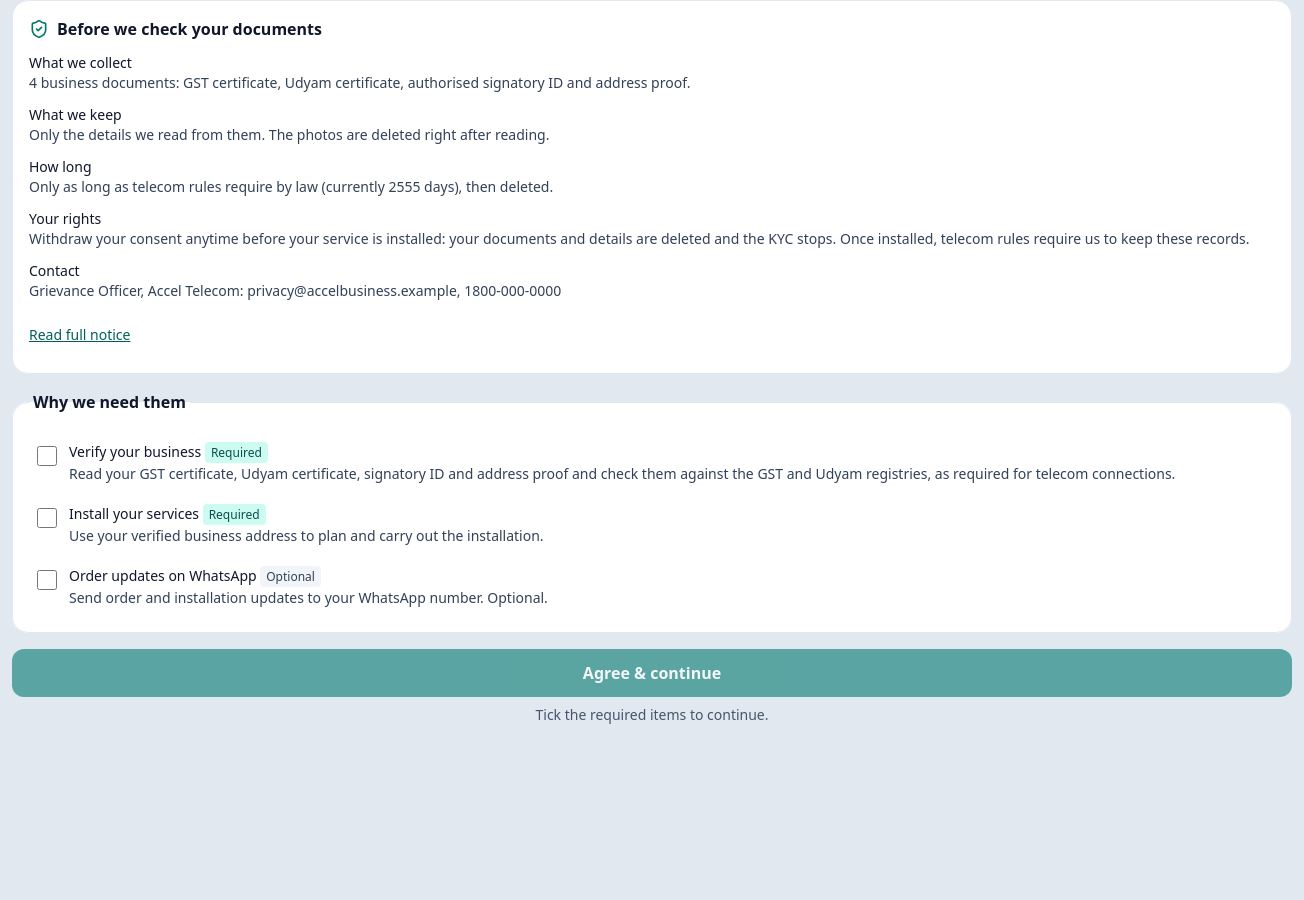
Test: ConsentStep › stays disabled until every required purpose is ticked
Expected: the button "Agree & continue" is disabled, [12,649,1292,697]
Click the checkbox labelled "Verify your business".
click(47, 456)  # box [37,446,57,466]
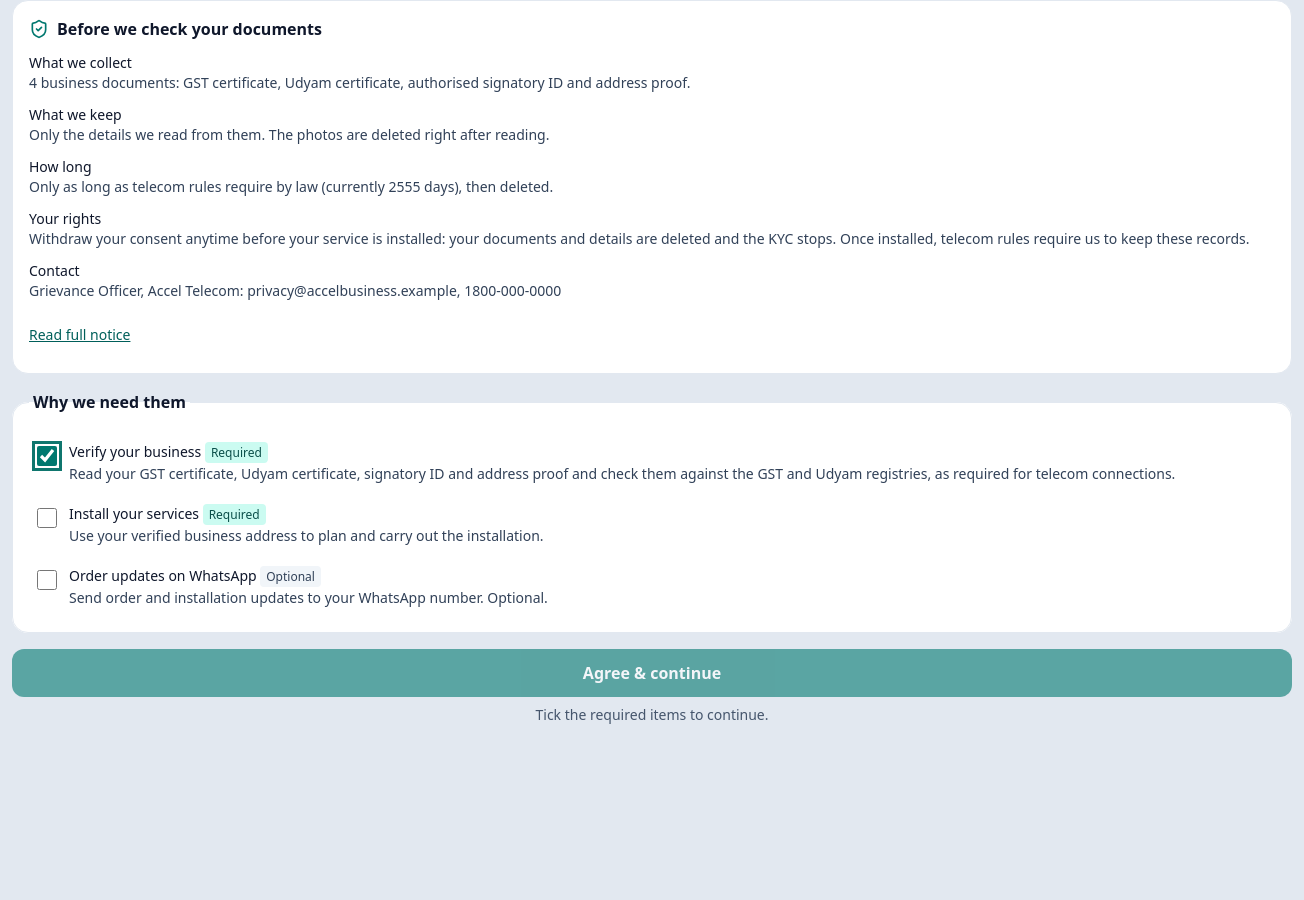
Expected: the button "Agree & continue" is disabled, [12,649,1292,697]
Click the checkbox labelled "Order updates on WhatsApp".
click(47, 580)  # box [37,570,57,590]
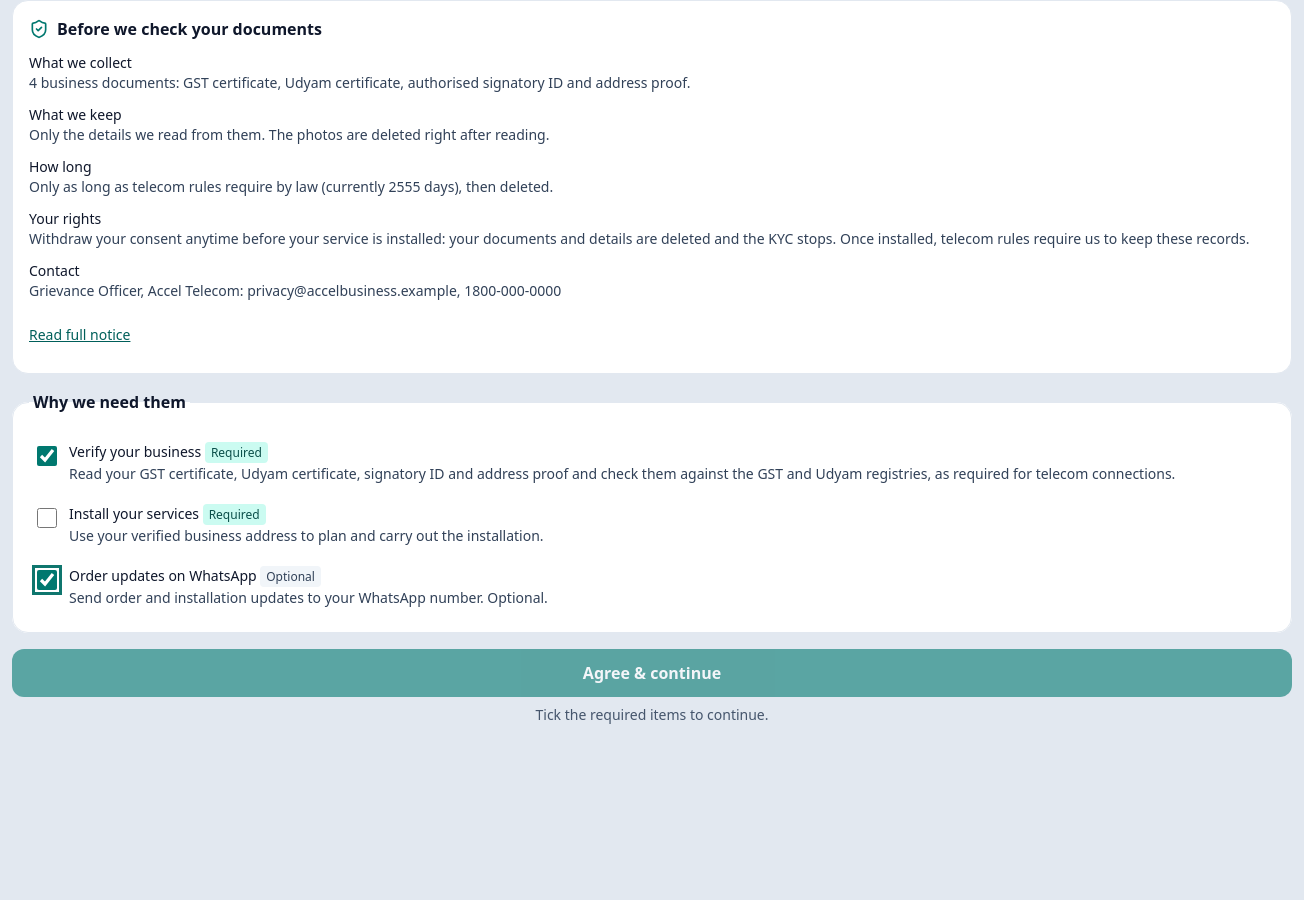
Expected: the button "Agree & continue" is disabled, [12,649,1292,697]
Click the checkbox labelled "Install your services".
click(47, 518)  # box [37,508,57,528]
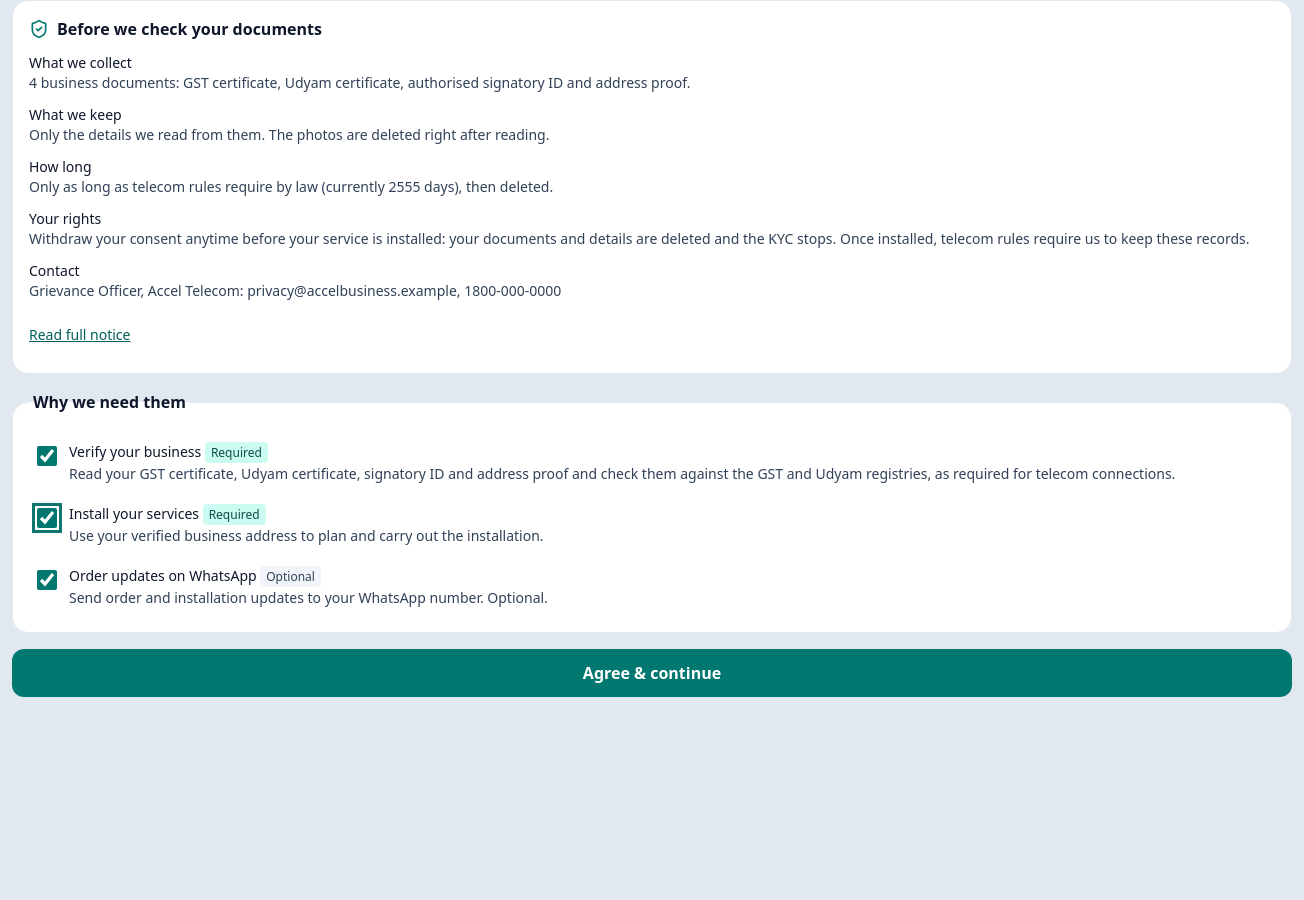
Expected: the button "Agree & continue" is enabled, [12,649,1292,697]
